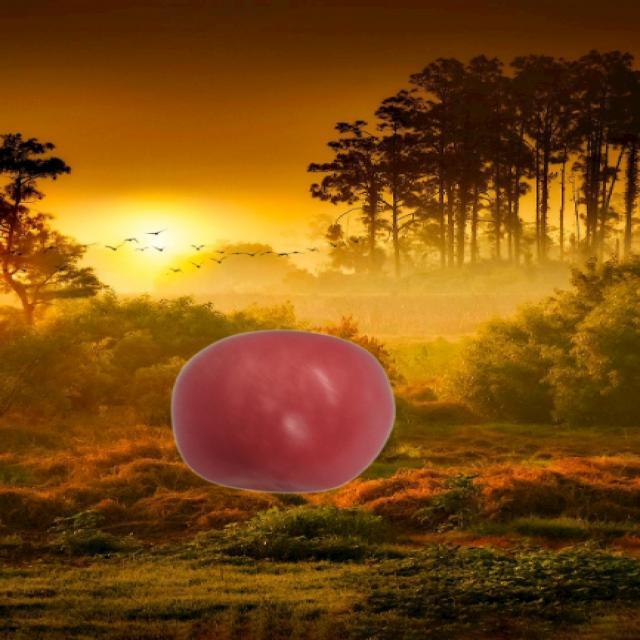apple: (170, 328, 398, 493)
